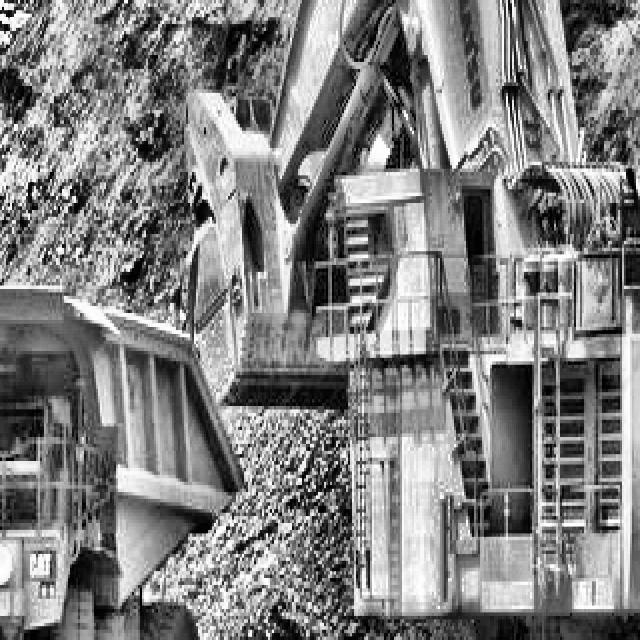dump_truck: (0, 254, 252, 640)
excavator: (162, 0, 640, 640)
